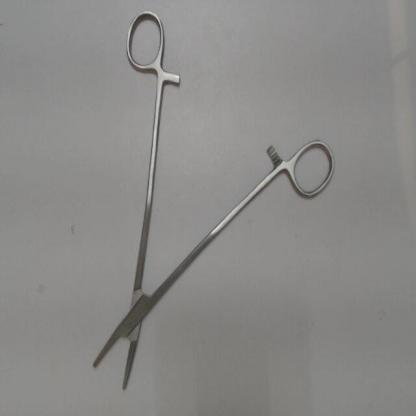8 Mayo Needle Holder: (82, 3, 342, 405)
